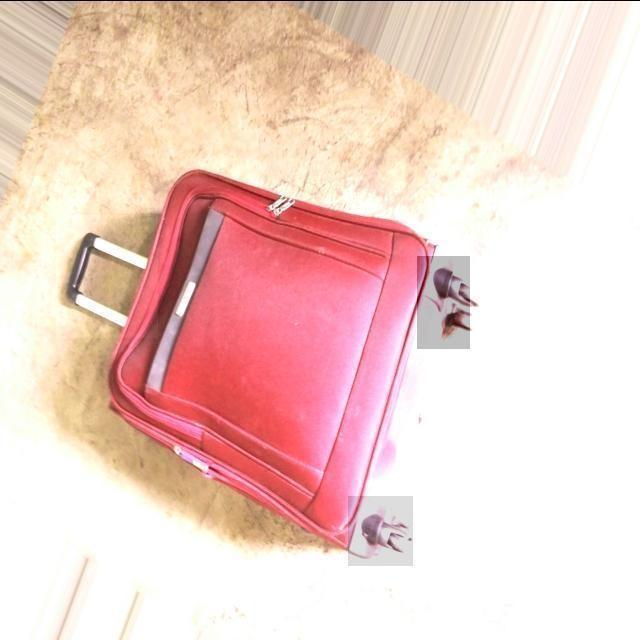Suitcase: (48, 155, 486, 572)
